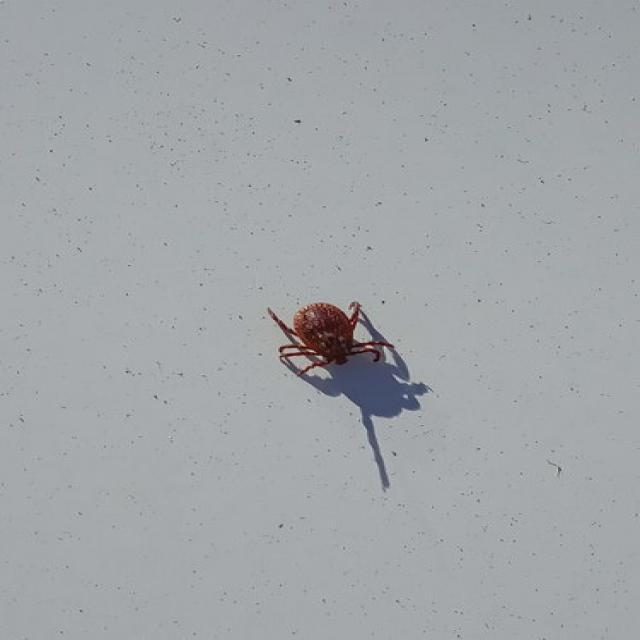Dermacentor Reticulatus-F: (266, 302, 408, 381)
